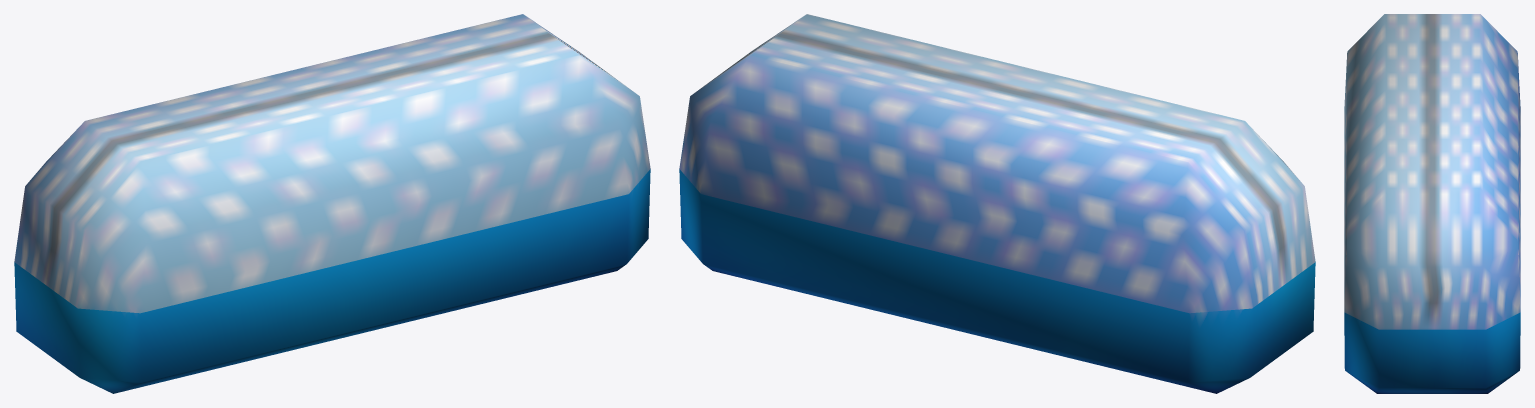
File: pencilCase_typeA4.FBX
The picture shows the model from 3 angles, left to right: view 1: azimuth 30°, elevation 25°; view 2: azimuth 150°, elevation 25°; view 3: azimuth 270°, elevation 25°; orthographic projection. The views are drawn at different scales.
Parts seen in each view (by area): view 1: PencilCaseA4; view 2: PencilCaseA4; view 3: PencilCaseA4.
Part boxes in pixels (x1,y1,x2,y2): PencilCaseA4: [14, 14, 650, 393]; PencilCaseA4: [679, 14, 1315, 393]; PencilCaseA4: [1344, 14, 1520, 393].
Bounding box in the file's own units: 19.85 × 7.3 × 6.28.
